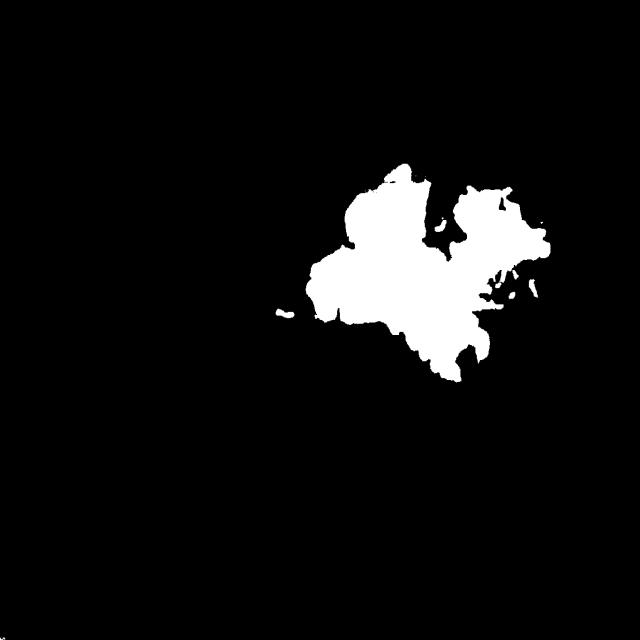fire: (280, 152, 553, 428)
